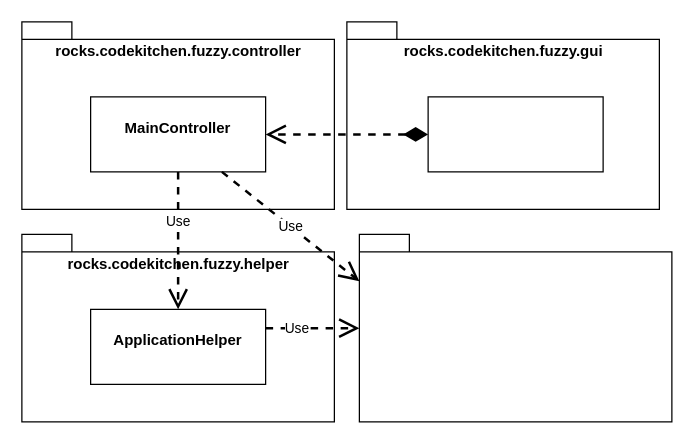
This 694x444 diagram has some shape labels left out. Here are the shapes that lost their labels. From the top down, the centre of each, then its label:
(x=515, y=134): FuzzyLineChart
(x=515, y=327): rocks.codekitchen.fuzzy.model
